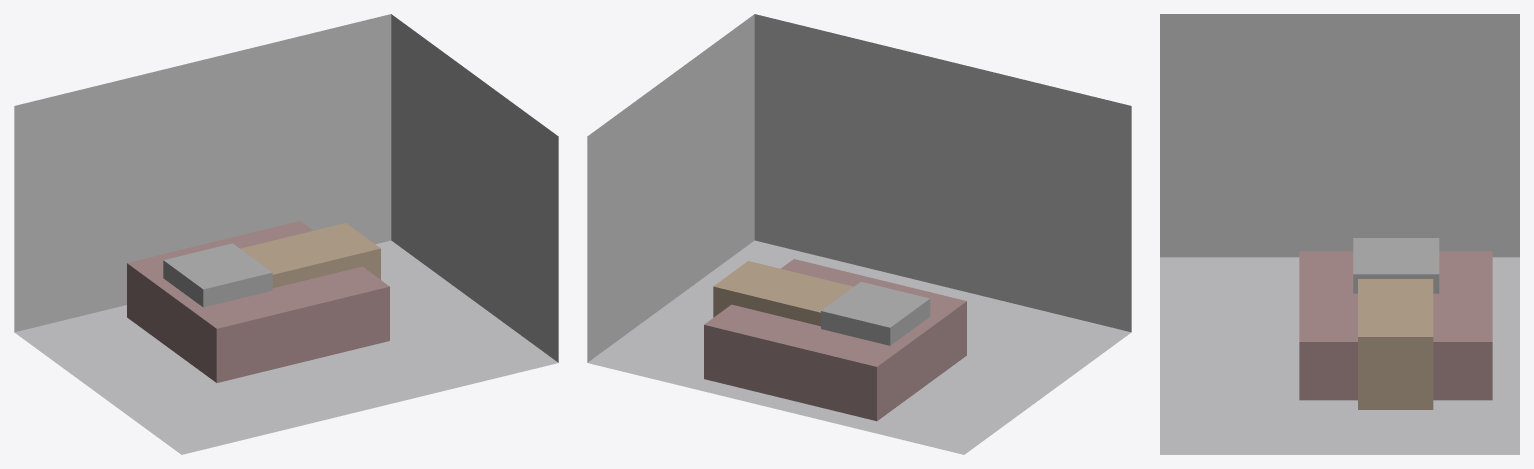
File: optimised_layout.glb
The picture shows the model from 3 angles, left to right: view 1: azimuth 30°, elevation 25°; view 2: azimuth 150°, elevation 25°; view 3: azimuth 270°, elevation 25°; orthographic projection. The views are drawn at different scales.
Visible parts, largest first — view 1: room, bed, desk, dustbin; view 2: room, bed, desk, dustbin; view 3: room, bed, desk, dustbin.
Boxes of the visible parts, x1=… form: room: x1=14, y1=14, x2=558, y2=454; bed: x1=127, y1=221, x2=389, y2=382; desk: x1=240, y1=223, x2=380, y2=288; dustbin: x1=163, y1=243, x2=272, y2=307; room: x1=587, y1=14, x2=1131, y2=454; bed: x1=704, y1=259, x2=966, y2=421; desk: x1=713, y1=261, x2=853, y2=326; dustbin: x1=821, y1=281, x2=930, y2=345; room: x1=1160, y1=14, x2=1519, y2=454; bed: x1=1299, y1=251, x2=1492, y2=400; desk: x1=1358, y1=279, x2=1433, y2=409; dustbin: x1=1353, y1=238, x2=1439, y2=293.
Size of the model in its own units: 4.36 by 2.5 by 3.35.
